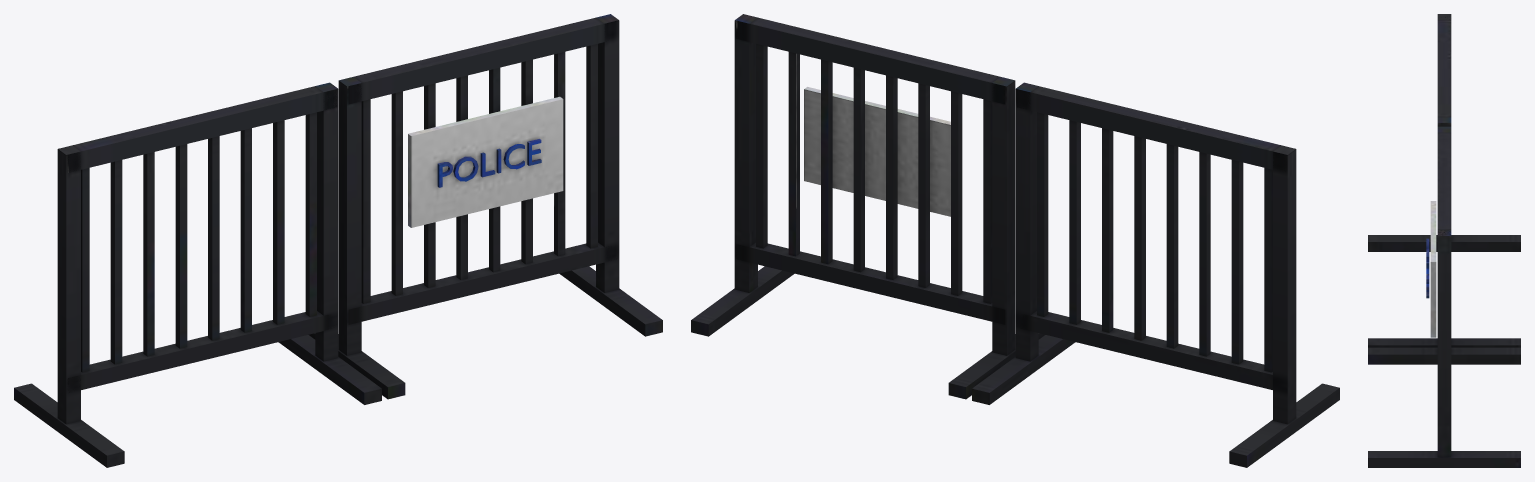
File: valla_metal.glb
3 renders of one model, left to right at view 1: azimuth 30°, elevation 25°; view 2: azimuth 150°, elevation 25°; view 3: azimuth 270°, elevation 25°, orthographic. The views are drawn at different scales.
Visible parts, largest first — view 1: valla_metal; view 2: valla_metal; view 3: valla_metal.
Boxes of the visible parts, left/top/right/bottom form: valla_metal: left=14, top=14, right=662, bottom=467; valla_metal: left=691, top=14, right=1339, bottom=467; valla_metal: left=1368, top=14, right=1520, bottom=467.
Bounding box in the file's own units: 1.9 × 0.92 × 0.55.
Materials: 1 (1 with a texture image).
